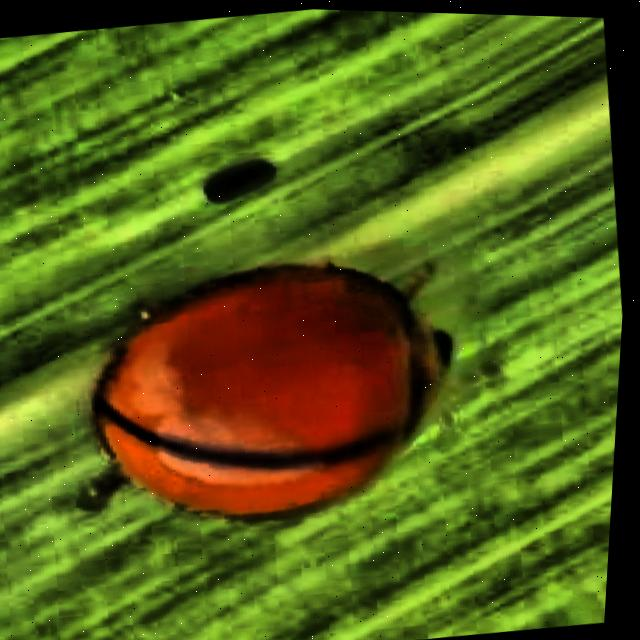Ladybug: (0, 179, 531, 604)
